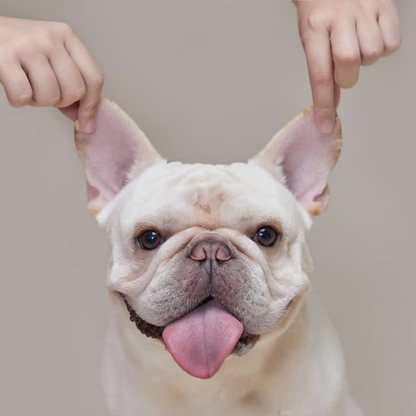bulldog: (71, 86, 360, 416)
